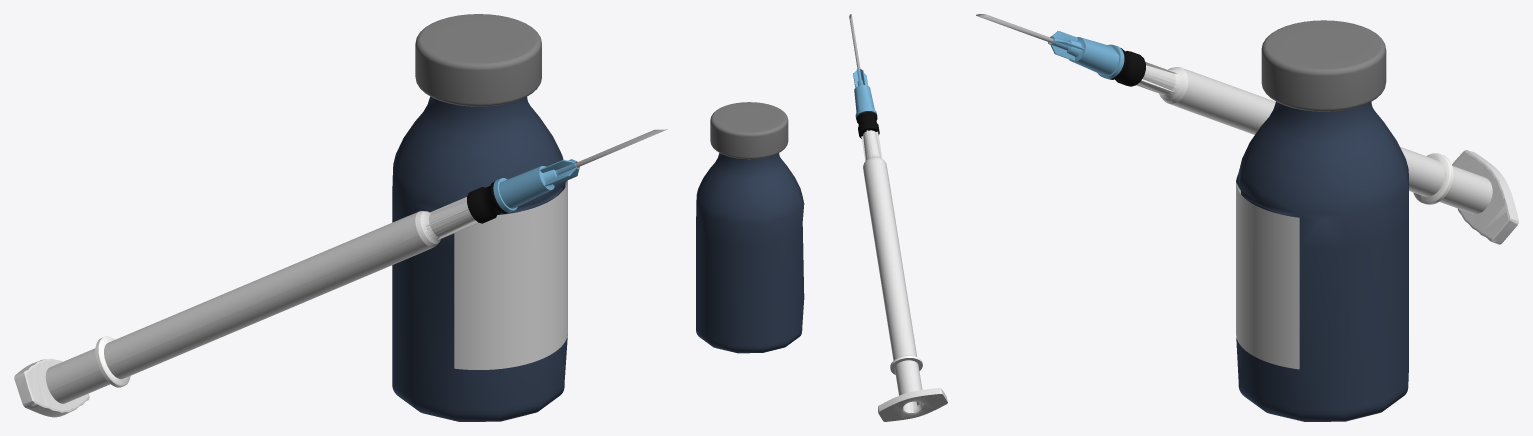
Rendered from suntikan.glb.
The picture shows the model from 3 angles, left to right: view 1: azimuth 30°, elevation 25°; view 2: azimuth 150°, elevation 25°; view 3: azimuth 270°, elevation 25°; orthographic projection. The views are drawn at different scales.
Visible parts, largest first — view 1: Bottle, D7014BOT, Label, Lid Metal, D7014NE2, D7014BO1, D7014BO2; view 2: Bottle, D7014BOT, Lid Metal, D7014NE2, D7014BO1, D7014BO2; view 3: Bottle, D7014BOT, Lid Metal, Label, D7014NE2, D7014BO2, D7014BO1.
Boxes of the visible parts, <box> form: Bottle: <box>392,96,567,421</box>; D7014BOT: <box>14,200,475,417</box>; Label: <box>454,180,567,369</box>; Lid Metal: <box>415,14,541,106</box>; D7014NE2: <box>493,159,579,212</box>; D7014BO1: <box>467,181,508,223</box>; D7014BO2: <box>95,197,478,387</box>; Bottle: <box>696,153,804,353</box>; D7014BOT: <box>863,130,947,421</box>; Lid Metal: <box>710,102,788,159</box>; D7014NE2: <box>853,68,877,119</box>; D7014BO1: <box>856,111,879,138</box>; D7014BO2: <box>861,130,922,374</box>; Bottle: <box>1236,101,1408,421</box>; D7014BOT: <box>1138,65,1518,244</box>; Lid Metal: <box>1261,20,1386,111</box>; Label: <box>1236,175,1299,369</box>; D7014NE2: <box>1048,31,1124,78</box>; D7014BO2: <box>1136,61,1453,204</box>; D7014BO1: <box>1108,48,1145,86</box>.
Size of the model in its own units: 7.19 by 5.74 by 7.36.
